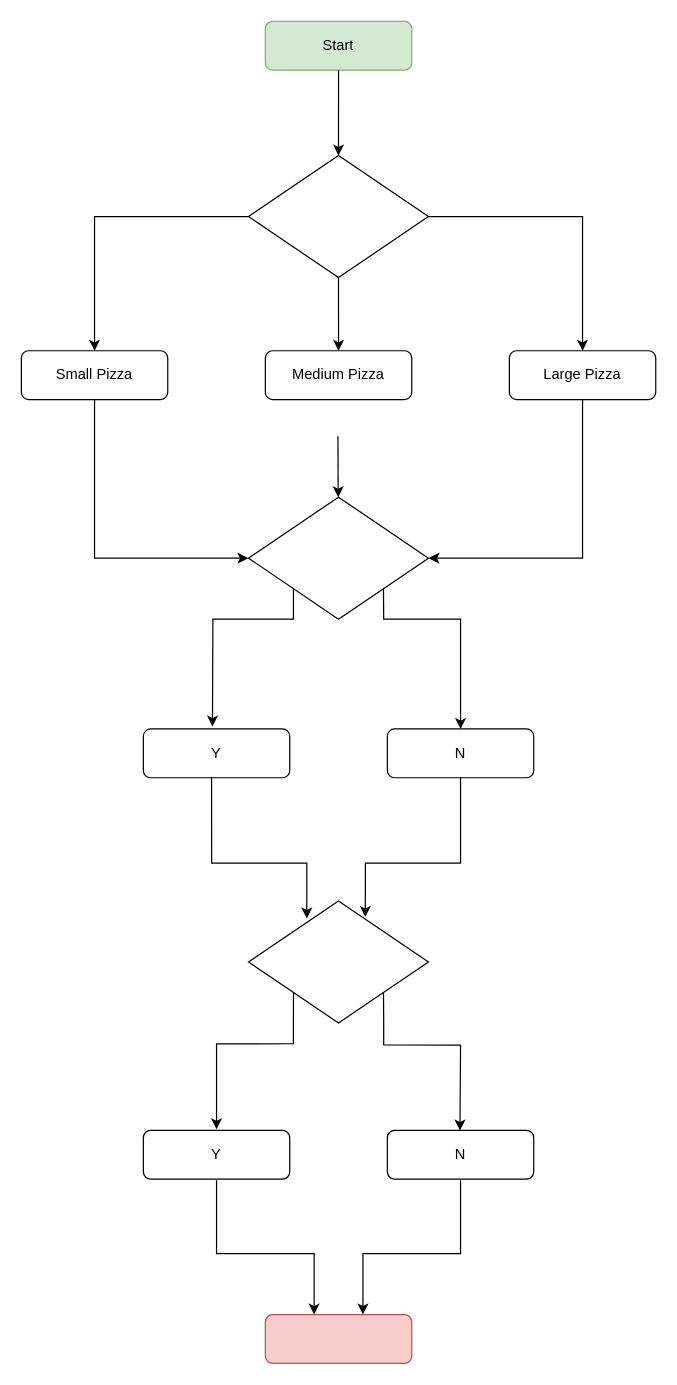
This 677x1385 diagram has some shape labels left out. Here are the shapes that lost their labels. From the top down, the centre of each, then its label:
pixel 337 216: What size pizza do you want? S, M, or L
pixel 337 557: Do you want pepperoni? Y or N
pixel 337 961: Do you want extra cheese? Y or N
pixel 338 1338: Your final bill is: "Total"
